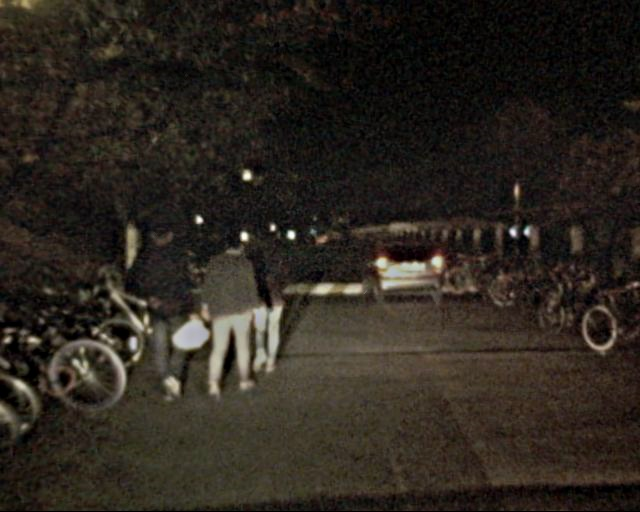person: (126, 217, 200, 397), (188, 234, 260, 401), (225, 223, 287, 376)
